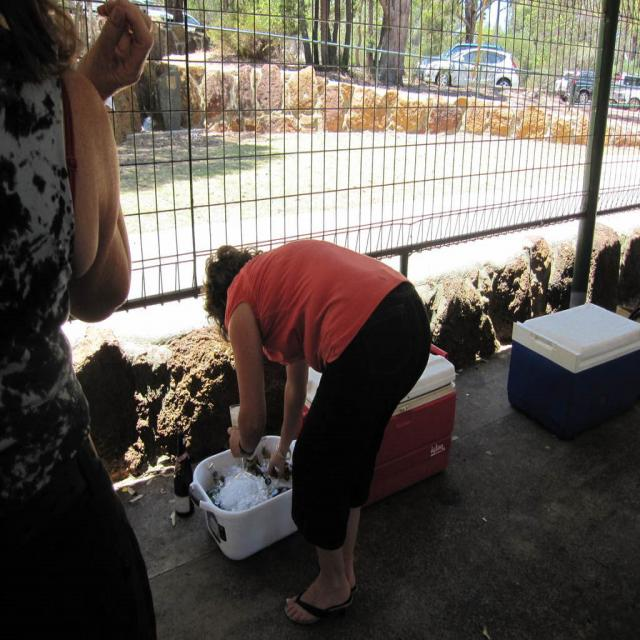Box: (509, 295, 632, 441)
